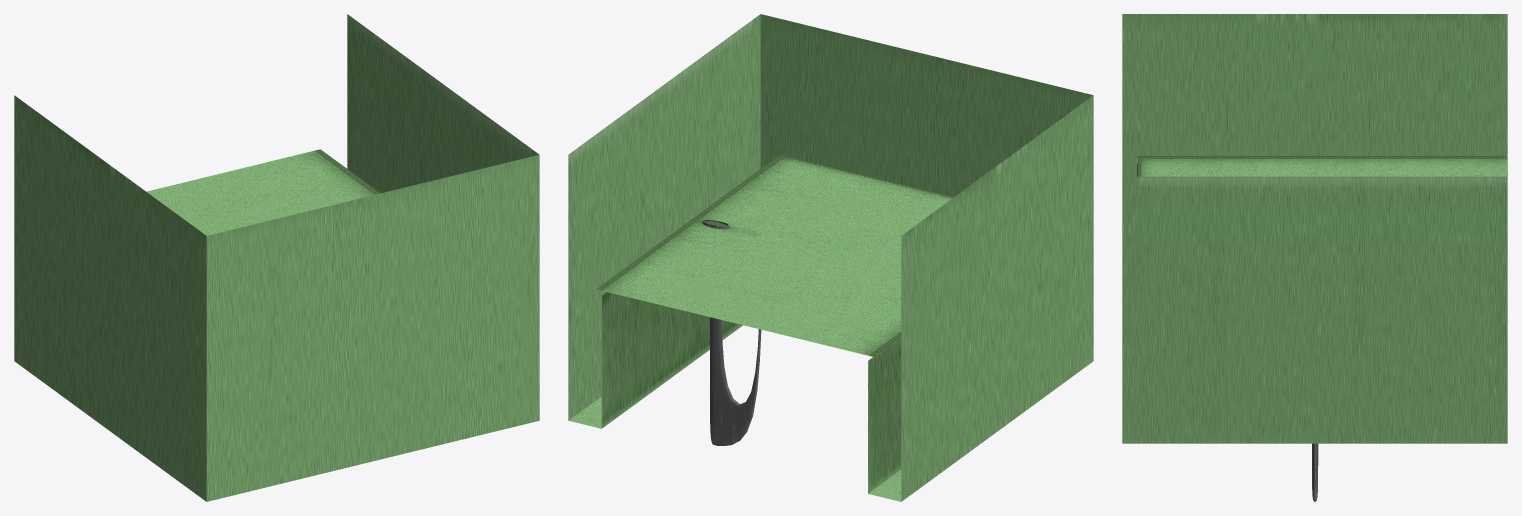
Rendered from door.obj.
3 renders of one model, left to right at view 1: azimuth 30°, elevation 25°; view 2: azimuth 150°, elevation 25°; view 3: azimuth 270°, elevation 25°, orthographic.
Visible parts, largest first — view 1: door.obj; view 2: door.obj; view 3: door.obj.
Boxes of the visible parts, x1,y1,x2,y2 form: door.obj: (14, 14, 539, 501); door.obj: (568, 14, 1093, 501); door.obj: (1122, 14, 1507, 501).
Size of the model in its own units: 1 by 1 by 1.
Materials: 1 (1 with a texture image).
